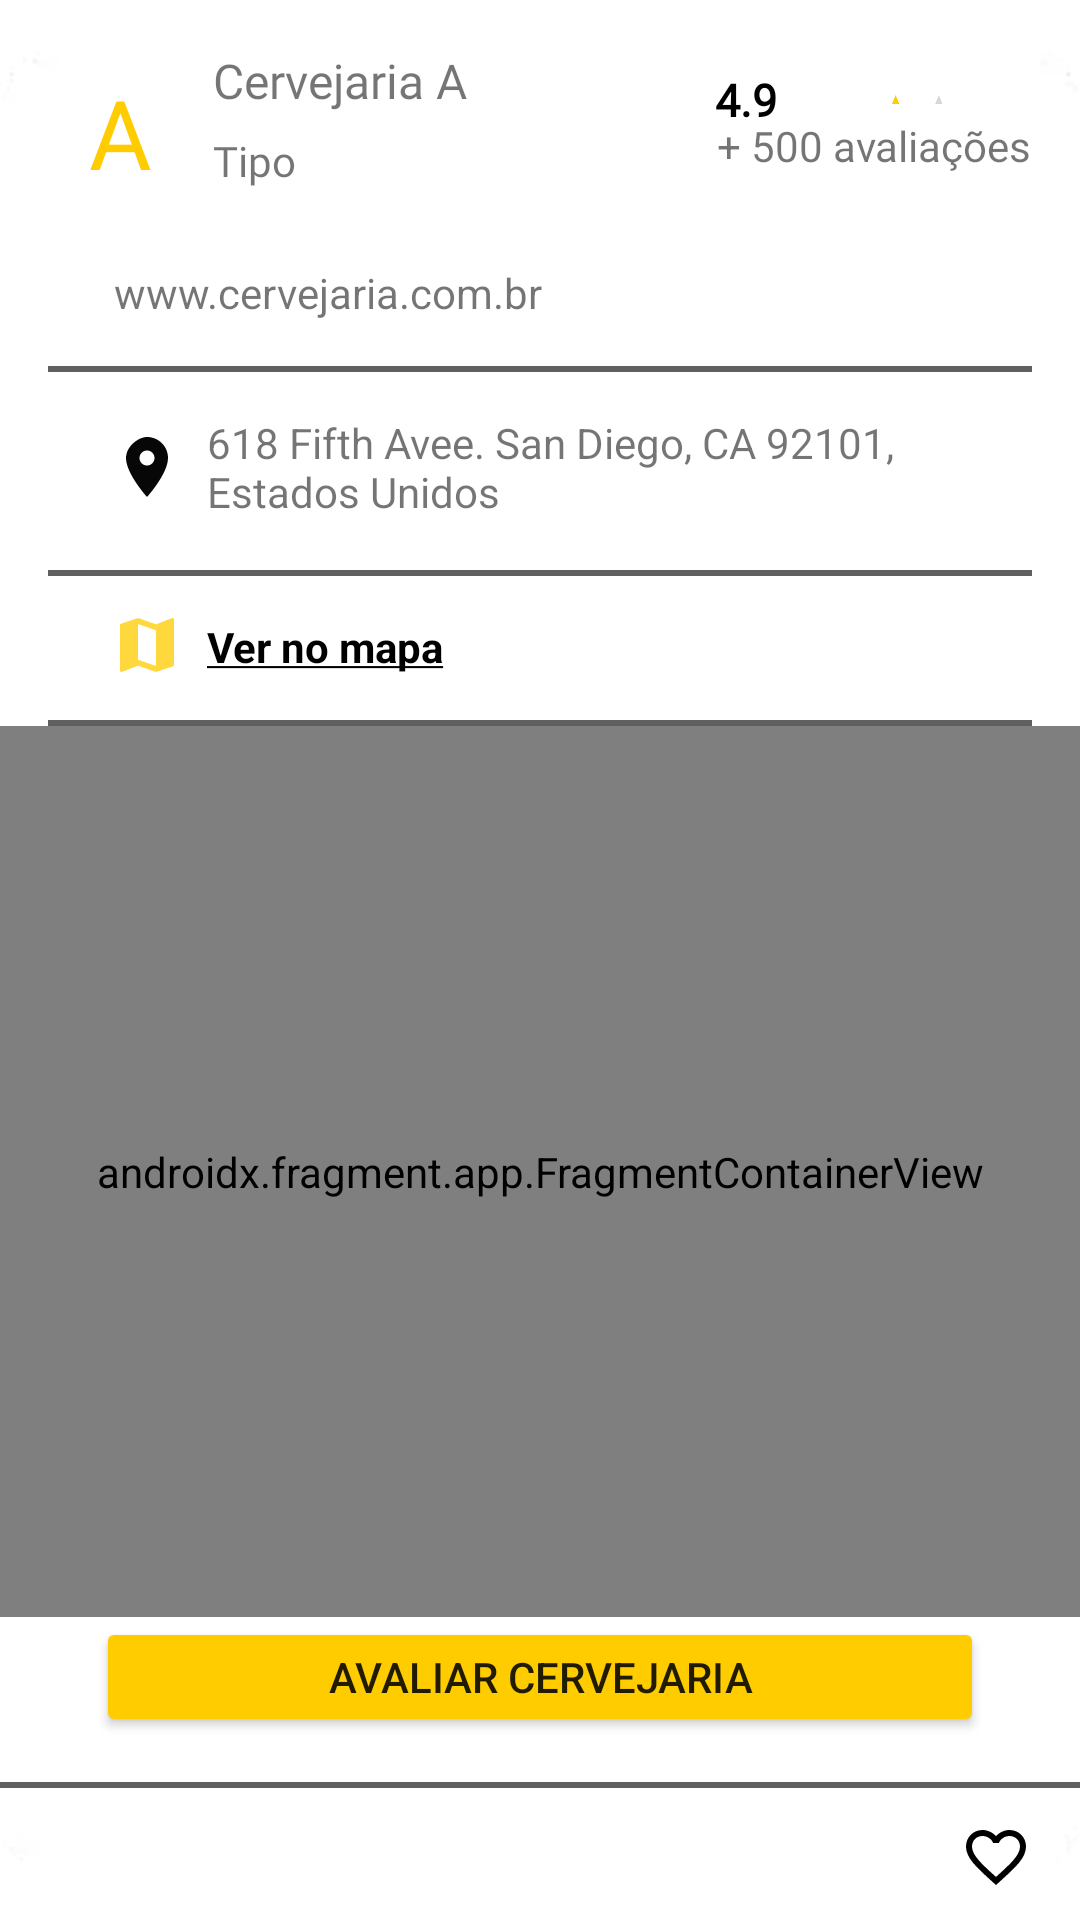

Where to tap for icons on this 1080×1920 app screen, as [x,y]:
fav stroke: [996,1857]
